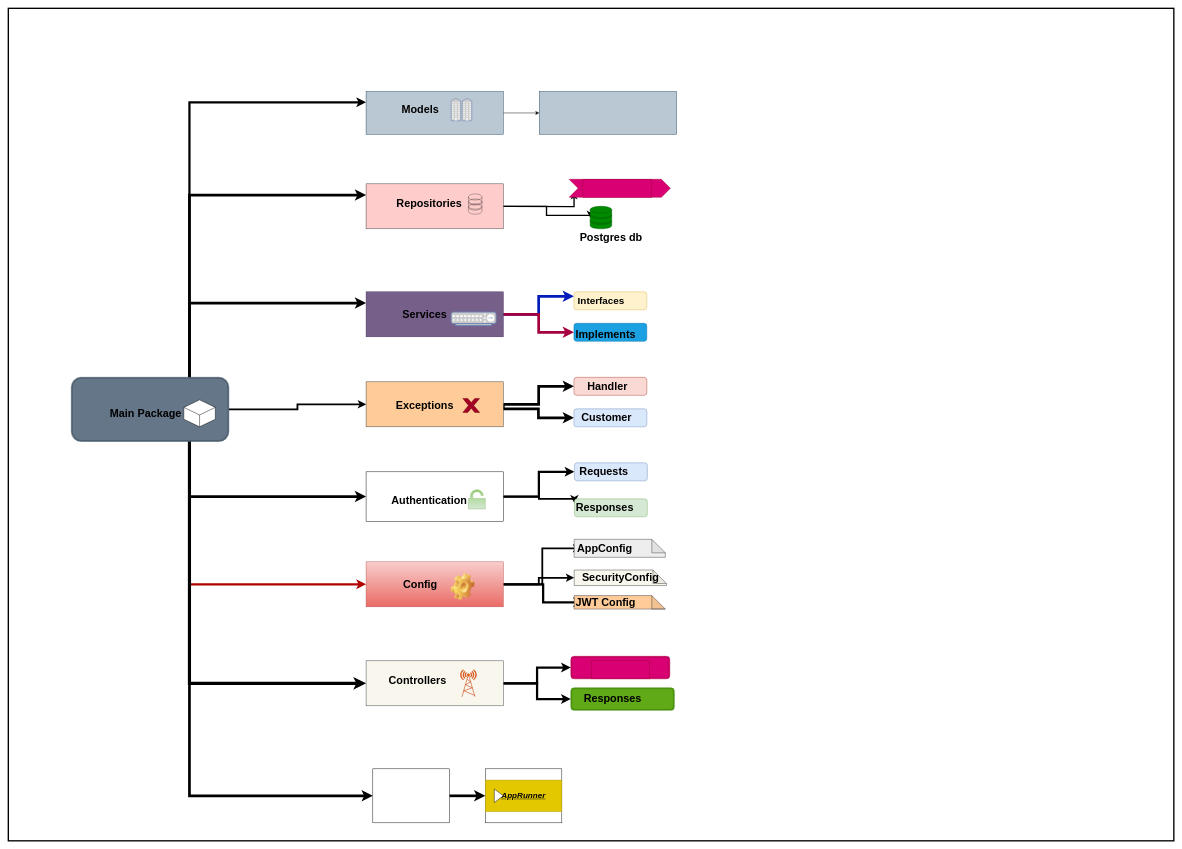
This 1182x849 diagram has some shape labels left out. The shapes that lost their labels are listed below. From the top down, each one's centre as x and y in pixels, then its label:
At [608,112]: "Entities".
At [617,188]: "JpaRepository".
At [620,669]: "Endpoints checker".
At [410,795]: "Main Class".
